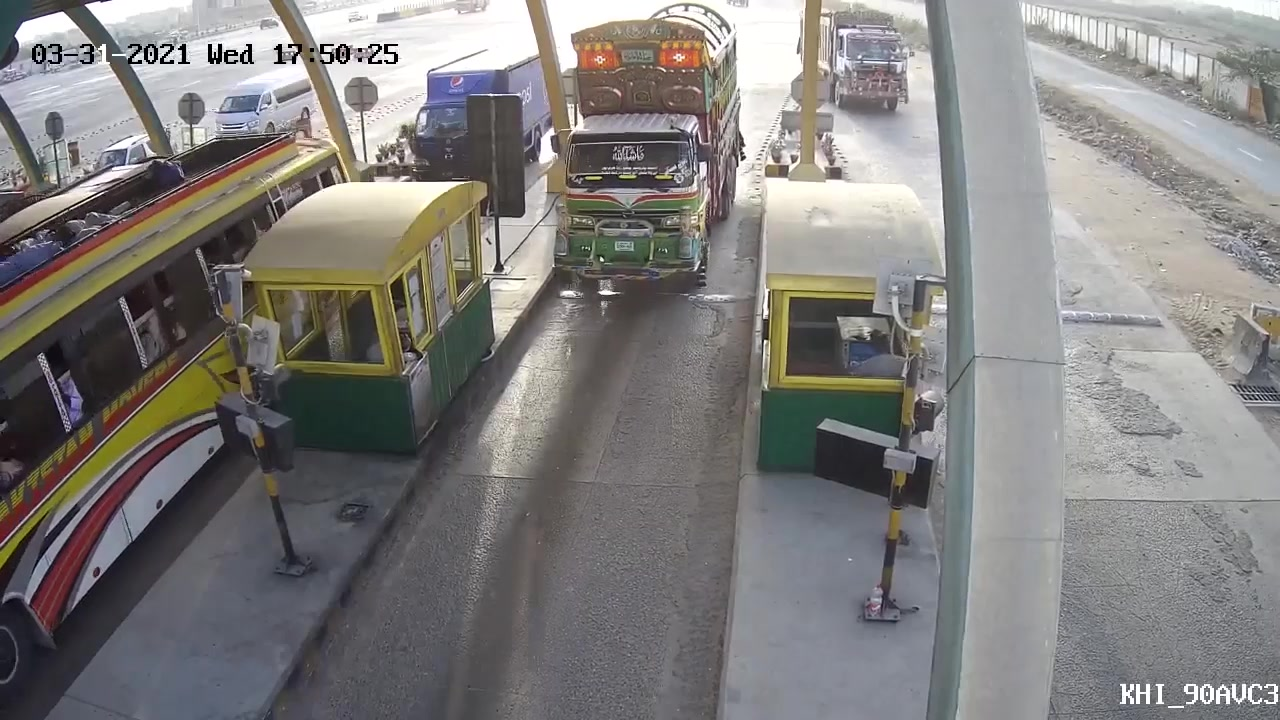F5: (546, 6, 748, 294)
